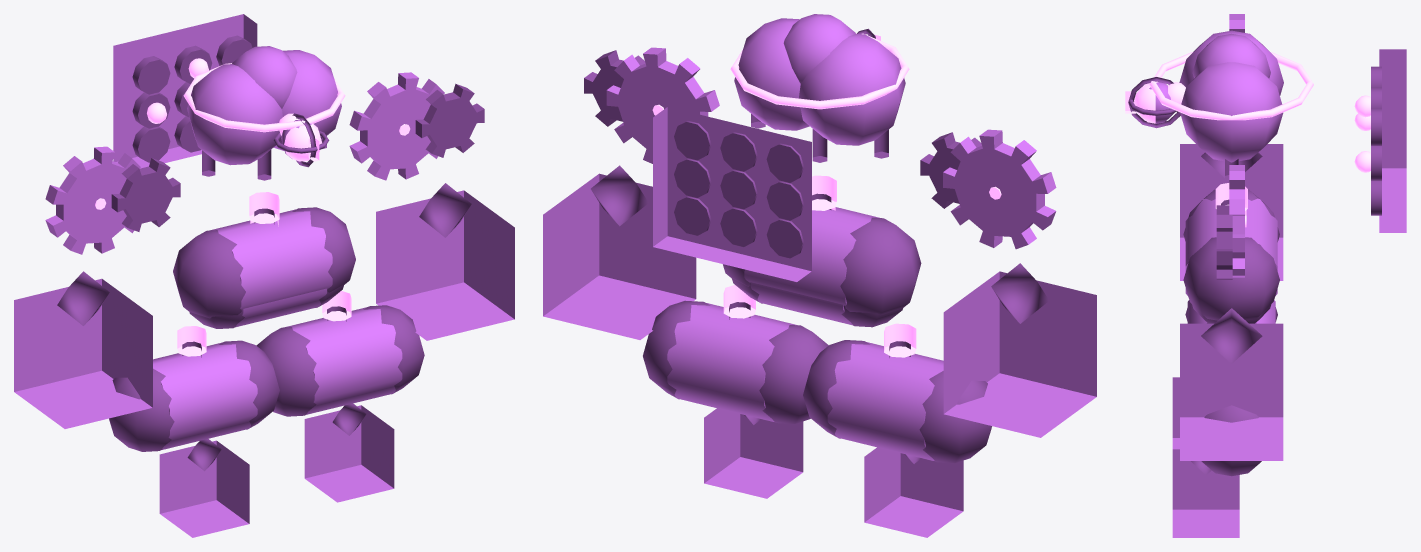
The model's file is golem_145.glb.
3 renders of one model, left to right at view 1: azimuth 30°, elevation 25°; view 2: azimuth 150°, elevation 25°; view 3: azimuth 270°, elevation 25°, orthographic. The views are drawn at different scales.
Parts seen in each view (by area): view 1: Body, Detail, Glow; view 2: Body, Detail, Glow; view 3: Body, Detail, Glow.
Part boxes in pixels (left/top/right/bottom): Body: left=14, top=14, right=514, bottom=537; Detail: left=57, top=35, right=484, bottom=471; Glow: left=95, top=58, right=410, bottom=356; Body: left=543, top=14, right=1096, bottom=537; Detail: left=584, top=28, right=1049, bottom=463; Glow: left=652, top=33, right=1001, bottom=357; Body: left=1149, top=14, right=1406, bottom=537; Detail: left=1128, top=66, right=1381, bottom=476; Glow: left=1125, top=52, right=1370, bottom=227.
Bounding box in the file's own units: 1.13 × 1.06 × 0.6016.
